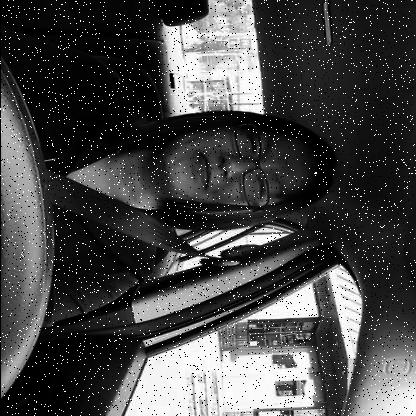seatbelt: (30, 100, 342, 268)
